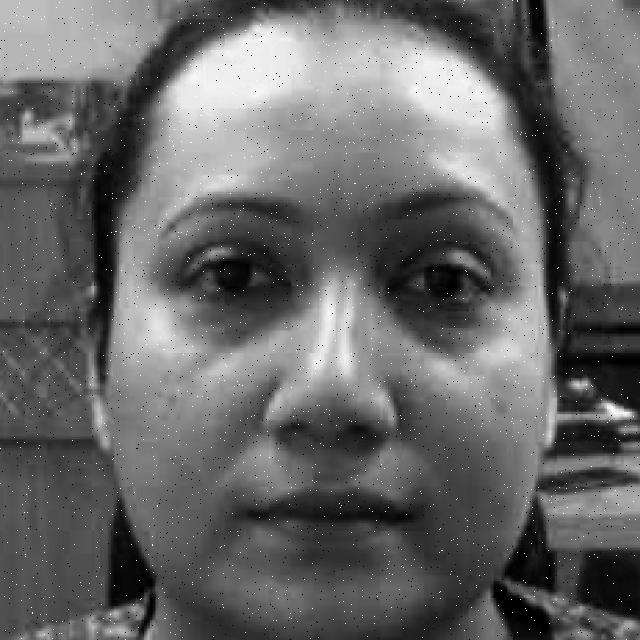puffy_eyes: (383, 292, 499, 351), (193, 287, 290, 338)
